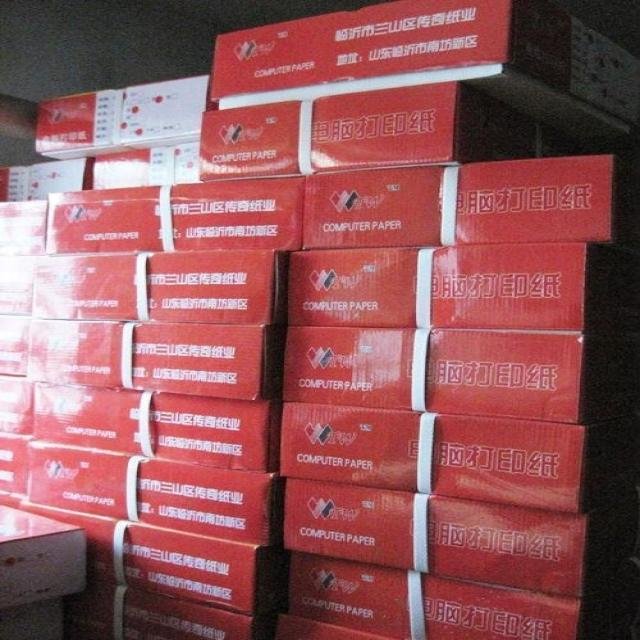box: (210, 0, 639, 149), (201, 80, 625, 183), (283, 478, 589, 598), (279, 402, 587, 513), (302, 154, 639, 254), (21, 501, 293, 617), (282, 326, 584, 424), (289, 243, 587, 334), (27, 442, 284, 547), (288, 550, 582, 639), (33, 382, 283, 475), (27, 321, 287, 401), (45, 176, 306, 255), (32, 251, 289, 326), (37, 75, 219, 160), (61, 578, 253, 639), (1, 504, 86, 609), (94, 141, 203, 190), (0, 157, 96, 202), (0, 200, 47, 255), (0, 255, 37, 316), (0, 374, 35, 438), (0, 433, 32, 501), (0, 315, 33, 377)
